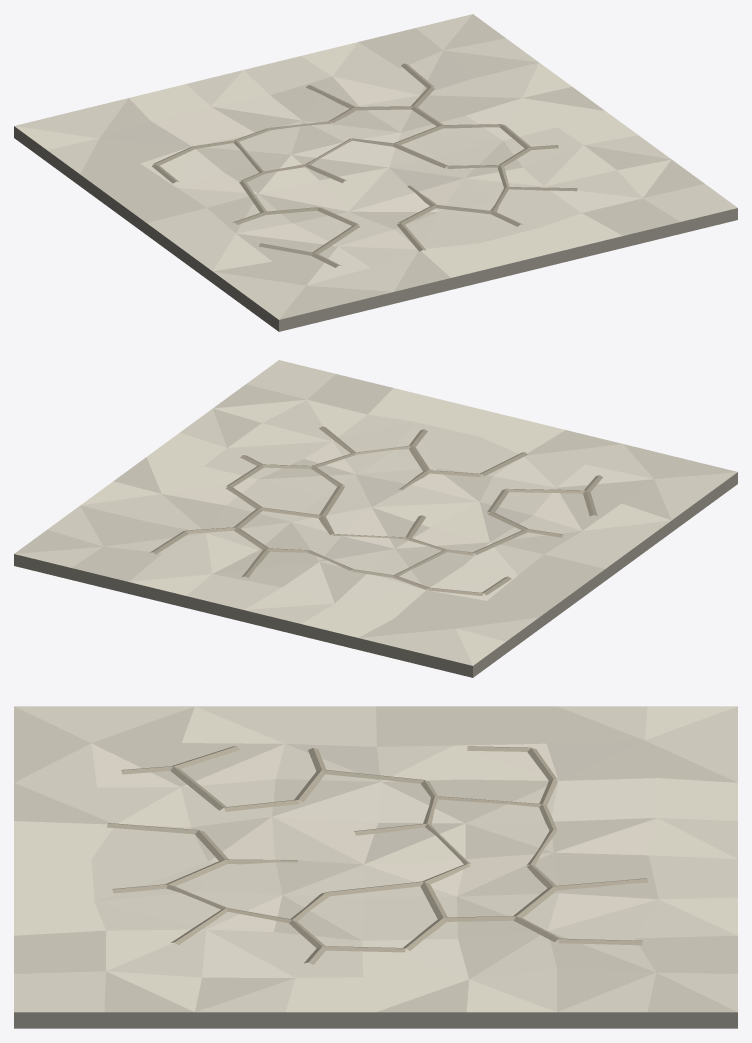
Rendered from ground_salt_flat_c.obj.
3 renders of one model, top to bottom at view 1: azimuth 30°, elevation 25°; view 2: azimuth 150°, elevation 25°; view 3: azimuth 270°, elevation 25°, orthographic. The views are drawn at different scales.
Bounding box in the file's own units: 4 × 0.112 × 4.
